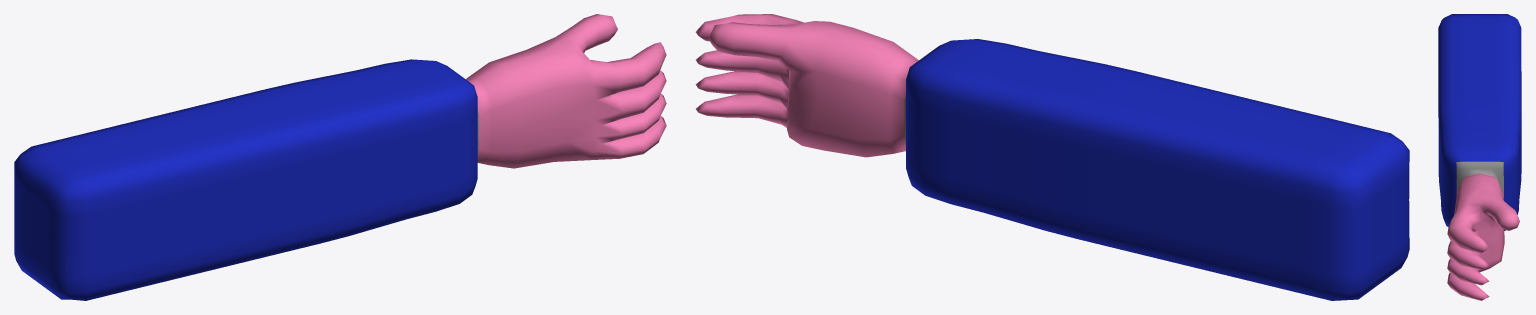
File: braco.FBX
3 views of the same model, side by side, from view 1: azimuth 30°, elevation 25°; view 2: azimuth 150°, elevation 25°; view 3: azimuth 270°, elevation 25° (orthographic). The views are drawn at different scales.
Parts seen in each view (by area): view 1: Box001; view 2: Box001; view 3: Box001.
Part boxes in pixels (x1=…): Box001: x1=14, y1=14, x2=666, y2=300; Box001: x1=695, y1=14, x2=1409, y2=300; Box001: x1=1438, y1=14, x2=1521, y2=300.
Size of the model in its own units: 137 by 25.28 by 22.39.
